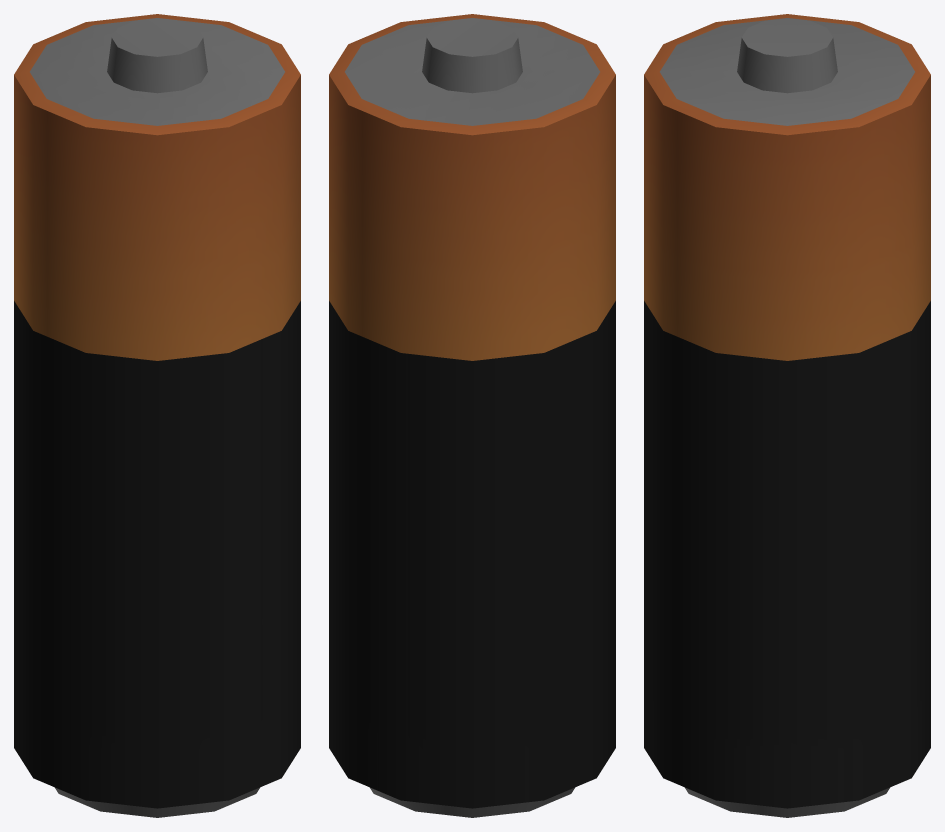
File: Battery.fbx
3 renders of one model, left to right at view 1: azimuth 30°, elevation 25°; view 2: azimuth 150°, elevation 25°; view 3: azimuth 270°, elevation 25°, orthographic.
Visible parts, largest first — view 1: Battery; view 2: Battery; view 3: Battery.
Part boxes in pixels (x1,y1,x2,y2): Battery: (14,14,300,817); Battery: (329,14,615,817); Battery: (644,14,930,817).
Bounding box in the file's own units: 88.55 × 249 × 88.55.
